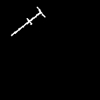double_crochet: (11, 7, 44, 35)
